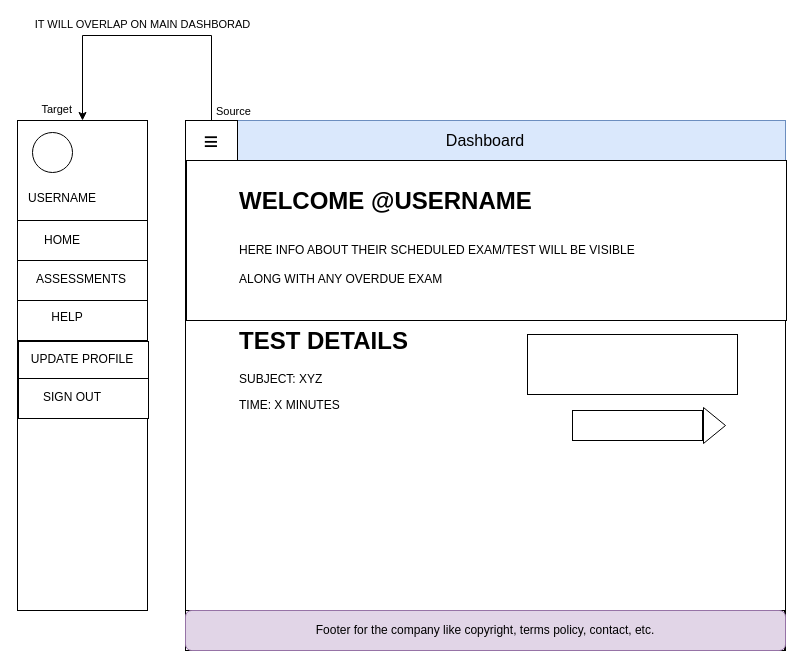
The diagram is 804 pixels wide and 668 high, and some of its shapes have lost their labels. Here are the shapes that lost their labels. From the top down, the centre of each, then its label:
At pixel 52 152: "PP".
At pixel 632 364: "TIMER WHICH SHOWS TIME LEFT TO START THE TEST".
At pixel 637 425: "START TEST BUTTON".
